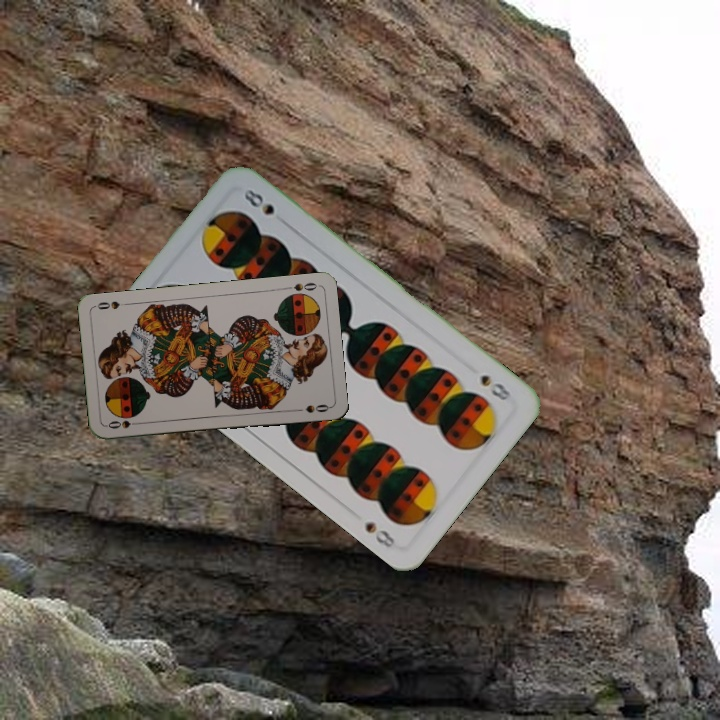S8: (476, 370, 515, 404)
SO: (103, 416, 144, 431), (280, 279, 320, 294)
